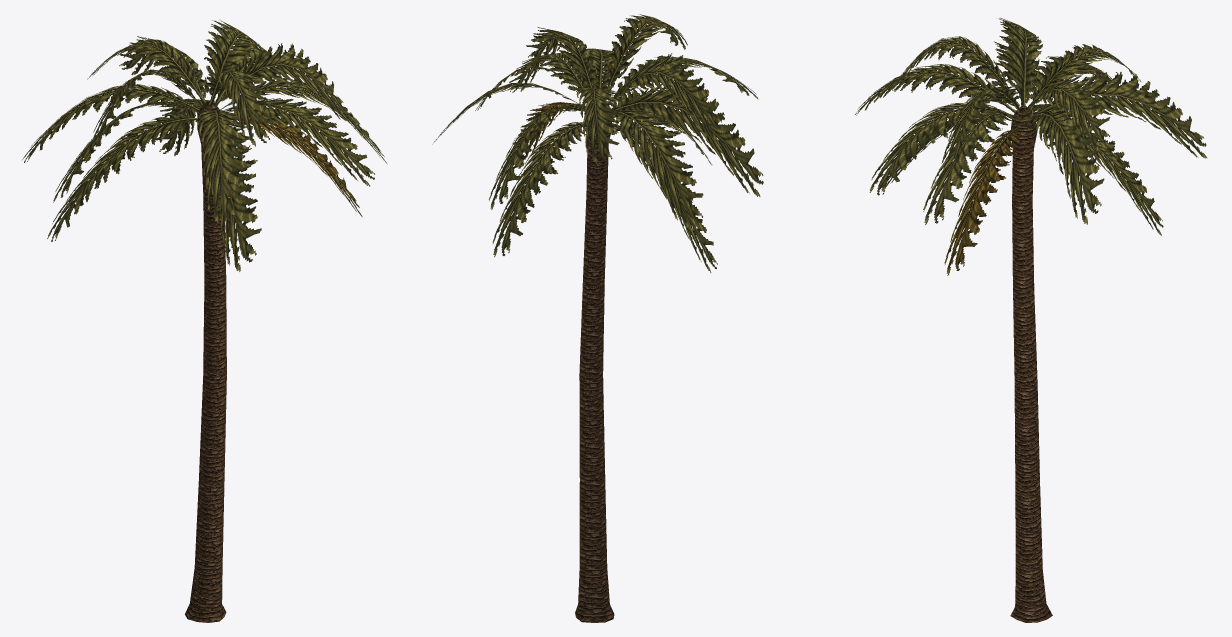
Rendered from Palmeira_01_Torre_Costeira.glb.
3 renders of one model, left to right at view 1: azimuth 30°, elevation 25°; view 2: azimuth 150°, elevation 25°; view 3: azimuth 270°, elevation 25°, orthographic.
Visible parts, largest first — view 1: Folhas abertas, Caule, Folhas novas, Folhas inferiores; view 2: Folhas abertas, Caule, Folhas novas, Folhas inferiores; view 3: Folhas abertas, Caule, Folhas novas, Folhas inferiores, Bainhas da copa.
Part boxes in pixels (left/top/right/bottom): Folhas abertas: left=22, top=36, right=387, bottom=223; Caule: left=185, top=129, right=226, bottom=622; Folhas novas: left=87, top=19, right=346, bottom=146; Folhas inferiores: left=47, top=98, right=362, bottom=271; Folhas abertas: left=432, top=48, right=763, bottom=229; Caule: left=575, top=132, right=614, bottom=622; Folhas novas: left=475, top=14, right=721, bottom=163; Folhas inferiores: left=492, top=87, right=717, bottom=272; Folhas abertas: left=855, top=41, right=1207, bottom=224; Caule: left=1010, top=133, right=1052, bottom=622; Folhas novas: left=892, top=17, right=1140, bottom=162; Folhas inferiores: left=881, top=104, right=1163, bottom=275; Bainhas da copa: left=1011, top=105, right=1036, bottom=136.
Size of the model in its own units: 8.61 by 14.2 by 8.74.
2 materials, 2 textured.
